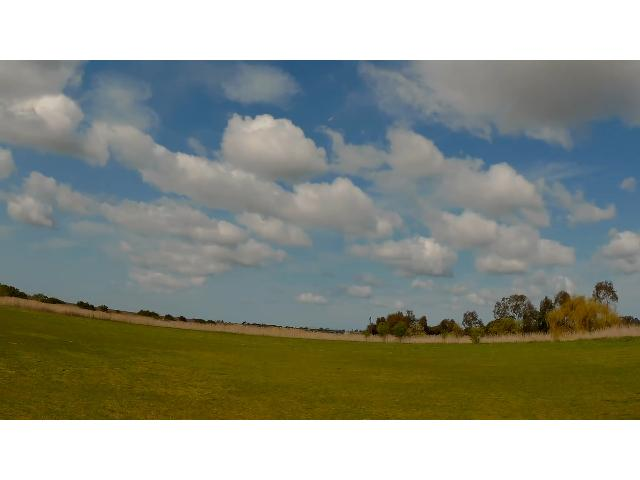Anti-Drone: (320, 109, 342, 129)
